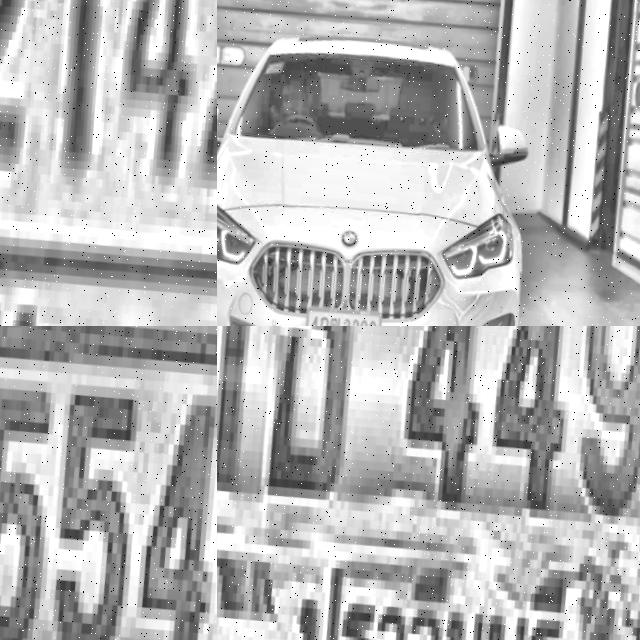license-plate: (217, 326, 640, 640), (0, 0, 217, 326), (0, 326, 217, 640), (295, 301, 380, 326)
